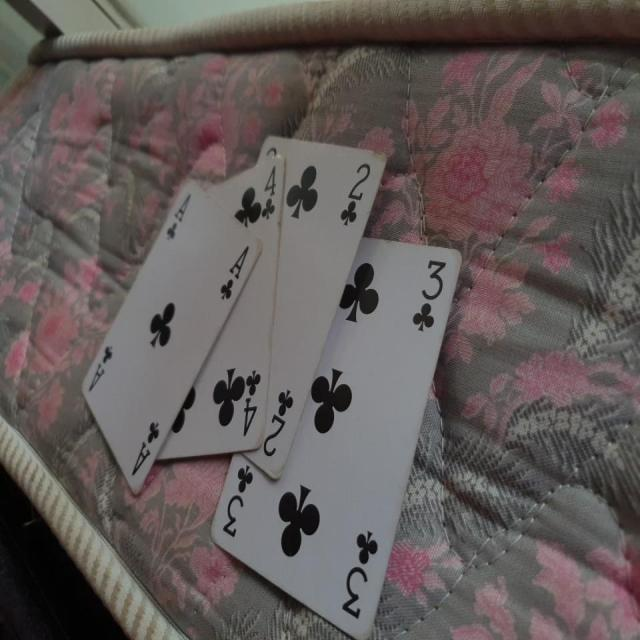2 Trefoils: (240, 132, 389, 481)
3 Trefoils: (210, 237, 462, 639)
4 Trefoils: (151, 156, 284, 467)
A Trefoils: (80, 176, 264, 495)
